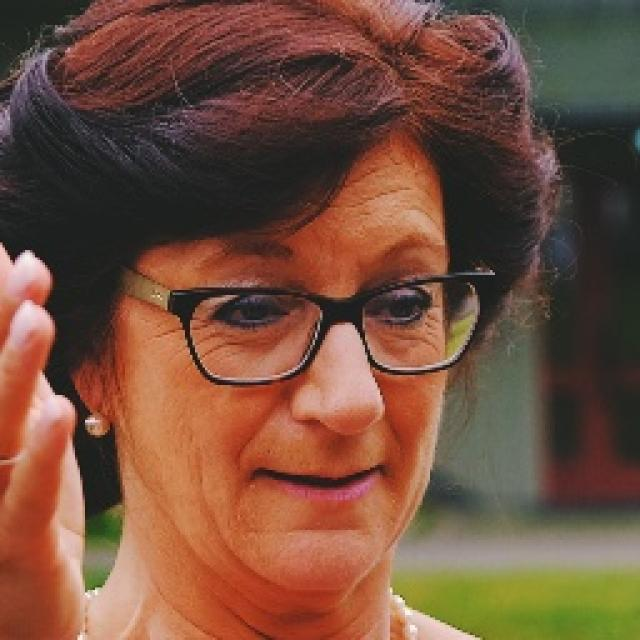earlobe: (69, 358, 109, 428)
eye: (210, 292, 295, 331), (366, 292, 436, 326)
nose: (294, 418, 380, 463)
